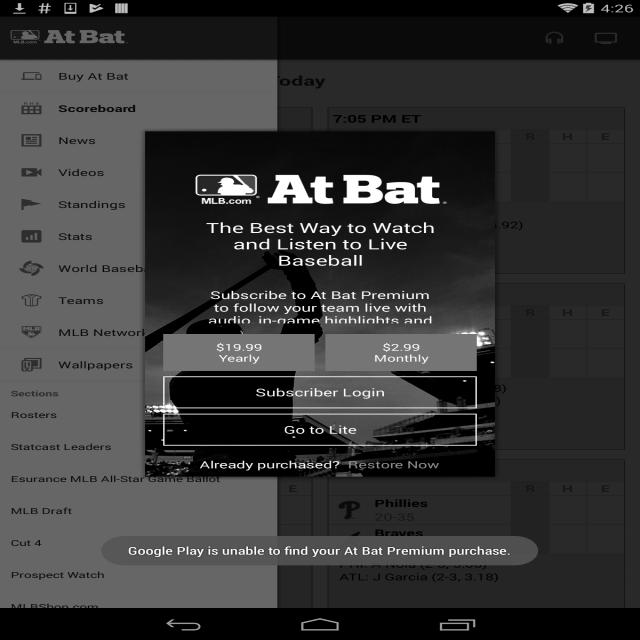Button: (320, 331, 484, 374), (159, 331, 315, 375)
ImageView: (192, 172, 256, 197)
TextView: (203, 220, 446, 268), (206, 288, 446, 322), (126, 542, 510, 560), (266, 171, 448, 206), (251, 383, 385, 403), (45, 27, 136, 46), (278, 422, 360, 438)
